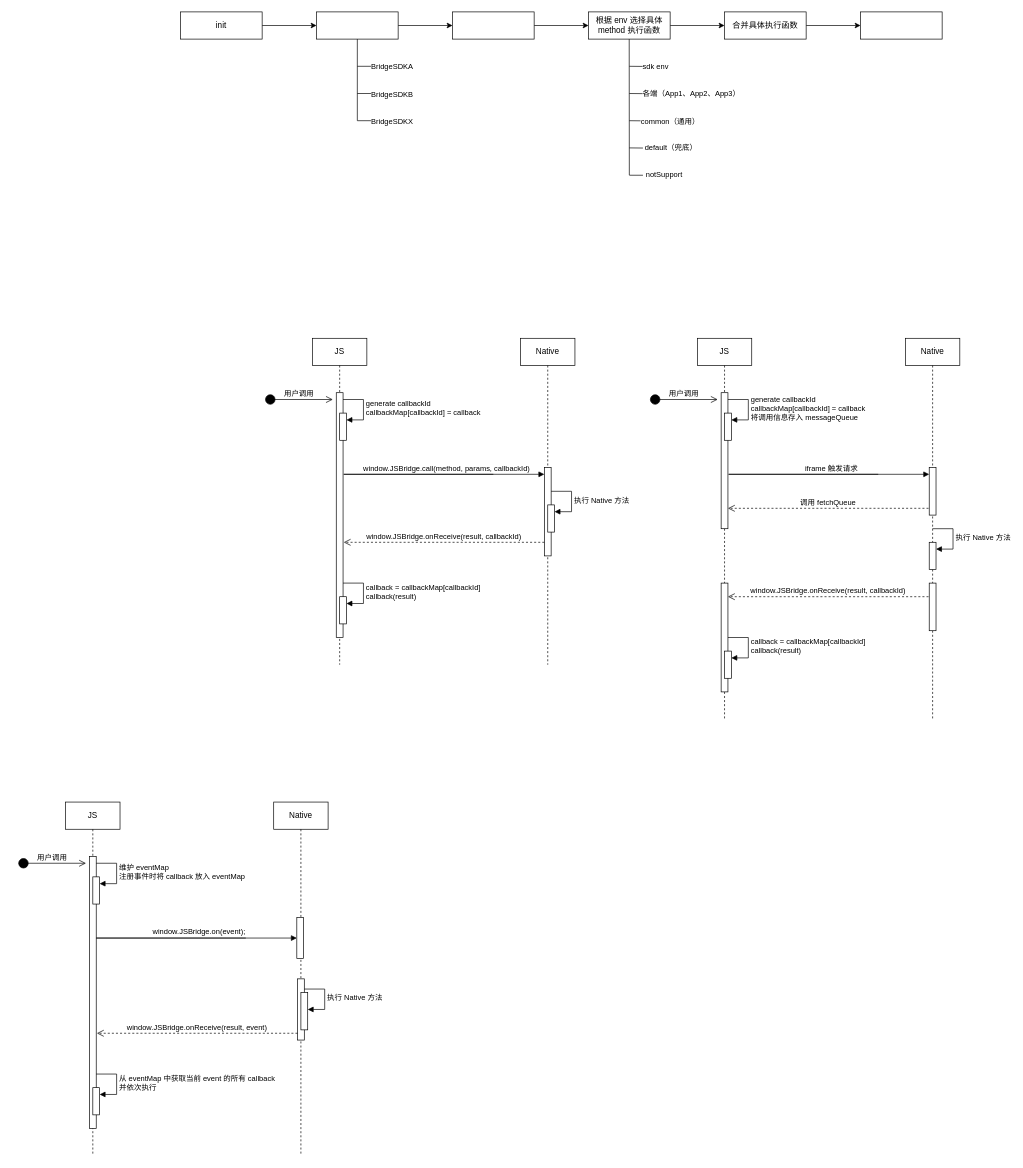
The diagram is 1023 pixels wide and 1168 high, and some of its shapes have lost their labels. The shapes that lost their labels are listed below. From the top down, each one's box as (x1, y1, x2, y2) in pixels, then its label:
(316, 11, 398, 39): 根据 env 选择 bridgeSDK
(452, 11, 534, 39): 遍历 method Map
(860, 11, 942, 39): jsb
